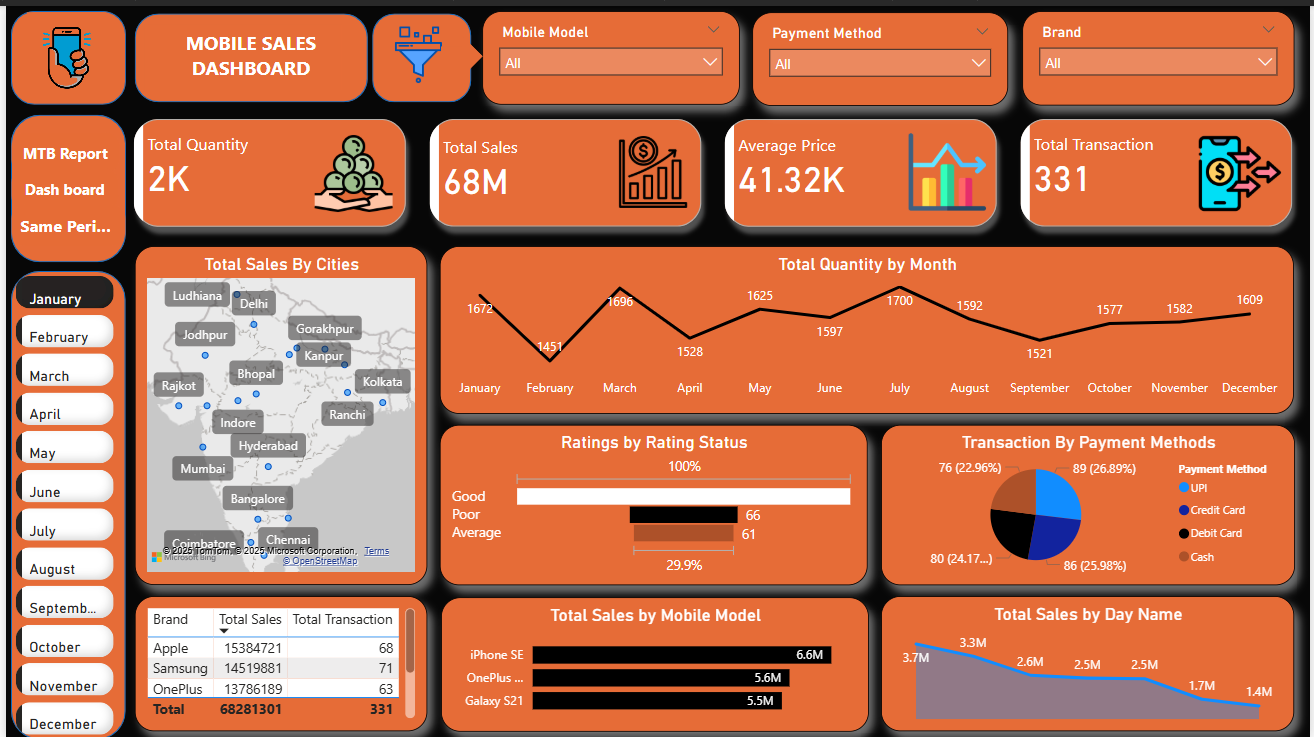

The dashboard page shown, as its layout file describes it:
{"tool":"powerbi","page":{"name":"Dashboard","canvas":[1280,720],"ordinal":1},"visuals":[{"type":"shape","box":[4.9,4.9,112.9,92],"z":0},{"type":"shape","box":[4.9,106.7,112.9,144.8],"z":1000},{"type":"shape","box":[5,260,112.5,460],"z":2000},{"type":"advancedSlicerVisual","fields":{"Values":["Custom Calander.Date.Variation.Date Hierarchy.Month"]},"box":[5,260,106.2,460],"z":3000},{"type":"slicer","fields":{"Values":["Mobile Sales Data.Mobile Model"]},"box":[467.5,4.9,252.8,92],"z":4000},{"type":"cardVisual","fields":{"Data":["Mobile Sales Data.Total Quantity","Mobile Sales Data.Total Sales","Mobile Sales Data.Average Price","Mobile Sales Data.Total Transaction"]},"box":[109.2,94.5,1170.6,139.9],"z":5000},{"type":"slicer","fields":{"Values":["Mobile Sales Data.Brand"]},"box":[997.5,5,267.5,92.5],"z":6000},{"type":"slicer","fields":{"Values":["Mobile Sales Data.Payment Method"]},"box":[732.5,6.1,251.5,92],"z":7000},{"type":"map","title":"Total Sales By Cities ","fields":{"Category":["Mobile Sales Data.City"]},"box":[126.4,235.6,287.1,332.5],"z":8000},{"type":"lineChart","fields":{"Category":["Custom Calander.Date.Variation.Date Hierarchy.Month"],"Y":["Mobile Sales Data.Total Quantity"]},"box":[426.2,235,838.8,165],"z":9000},{"type":"funnel","title":"Ratings by Rating Status  ","fields":{"Category":["Mobile Sales Data.Rating Status"],"Y":["CountNonNull(Mobile Sales Data.Customer Age)"]},"box":[426.2,411.2,420,157.5],"z":10000},{"type":"pieChart","title":"Transaction By Payment Methods","fields":{"Category":["Mobile Sales Data.Payment Method"],"Y":["CountNonNull(Mobile Sales Data.Transaction ID)"]},"box":[858.8,411.2,406.2,157.5],"z":11000},{"type":"clusteredBarChart","fields":{"Y":["Mobile Sales Data.Total Sales"],"Category":["Mobile Sales Data.Mobile Model"]},"box":[426.7,580,420,132.2],"z":12000},{"type":"areaChart","fields":{"Y":["Mobile Sales Data.Total Sales"],"Category":["Custom Calander.Day Name"]},"box":[858.6,578.6,405.7,132.9],"z":13000},{"type":"tableEx","fields":{"Values":["Mobile Sales Data.Brand","Mobile Sales Data.Total Sales","Mobile Sales Data.Total Transaction"]},"box":[126.4,579.1,287.1,132.5],"z":14000},{"type":"image","box":[21.2,6.2,77.5,88.8],"z":15000},{"type":"shape","box":[126.2,7.5,228.8,87.5],"z":16000},{"type":"textbox","box":[136.2,18.8,193.8,65],"z":17000},{"type":"shape","box":[360,7.5,97.5,87.5],"z":18000},{"type":"image","box":[365,15,81.2,66.2],"z":19000},{"type":"shape","box":[427.5,30,41.2,40],"z":20000},{"type":"actionButton","box":[4.9,123.9,106.7,40.5],"z":20001},{"type":"actionButton","box":[4.9,159.5,105.5,40.5],"z":20002},{"type":"actionButton","box":[4.9,195.1,112.9,40.5],"z":20003}]}

Visuals, with their boxes in screenshot pixels (x1, y1, x2, y2), scaled from the page's 1280x720 canvas onto the 1314x737 screenshot:
shape: 5,5,121,99
shape: 5,109,121,257
shape: 5,266,121,736
advancedSlicerVisual - Custom Calander.Date.Variation.Date Hierarchy.Month: 5,266,114,736
slicer - Mobile Sales Data.Mobile Model: 480,5,739,99
cardVisual - Mobile Sales Data.Total Quantity x Mobile Sales Data.Total Sales: 112,97,1313,240
slicer - Mobile Sales Data.Brand: 1024,5,1299,100
slicer - Mobile Sales Data.Payment Method: 752,6,1010,100
"Total Sales By Cities " map: 130,241,424,582
lineChart - Custom Calander.Date.Variation.Date Hierarchy.Month x Mobile Sales Data.Total Quantity: 438,241,1299,409
"Ratings by Rating Status  " funnel: 438,421,869,582
"Transaction By Payment Methods" pieChart: 882,421,1299,582
clusteredBarChart - Mobile Sales Data.Total Sales x Mobile Sales Data.Mobile Model: 438,594,869,729
areaChart - Mobile Sales Data.Total Sales x Custom Calander.Day Name: 881,592,1298,728
tableEx - Mobile Sales Data.Brand x Mobile Sales Data.Total Sales: 130,593,424,728
image: 22,6,101,97
shape: 130,8,364,97
textbox: 140,19,339,86
shape: 370,8,470,97
image: 375,15,458,83
shape: 439,31,481,72
actionButton: 5,127,115,168
actionButton: 5,163,113,205
actionButton: 5,200,121,241
